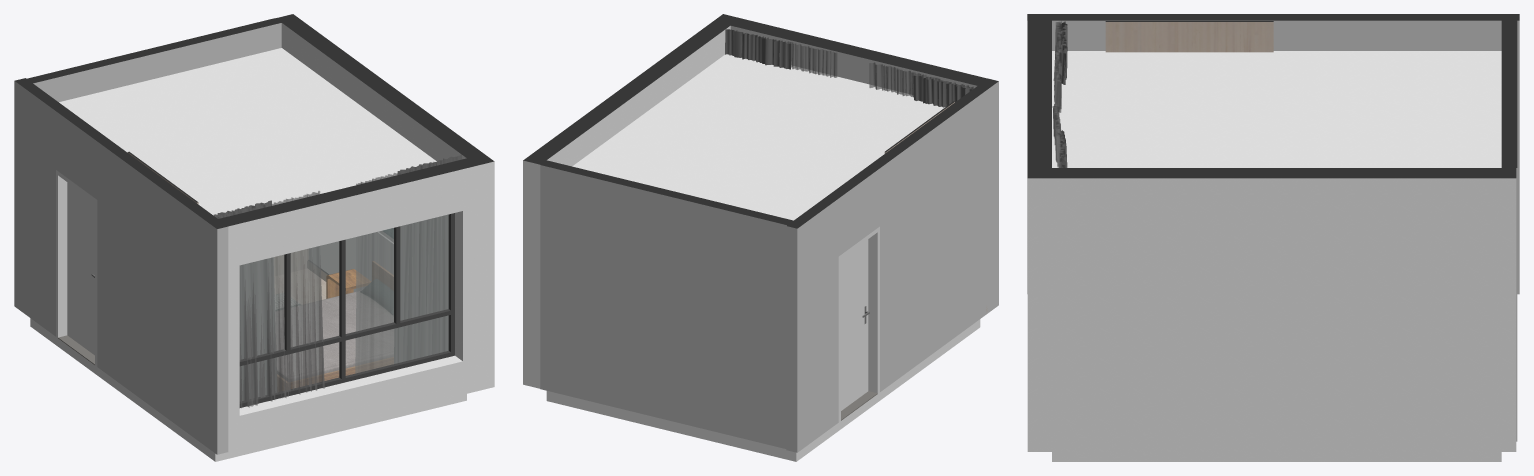
File: archilogic_2018-10-09_14-37-03_nCxAeA.obj
The picture shows the model from 3 angles, left to right: view 1: azimuth 30°, elevation 25°; view 2: azimuth 150°, elevation 25°; view 3: azimuth 270°, elevation 25°; orthographic projection. The views are drawn at different scales.
Visible parts, largest first — view 1: mesh_0, mesh_1, mesh_9, mesh_8, mesh_2, mesh_15, mesh_3, mesh_22, mesh_20, mesh_5, mesh_6, mesh_7; view 2: mesh_1, mesh_0, mesh_2, mesh_22, mesh_8, mesh_9, mesh_20; view 3: mesh_0, mesh_2, mesh_1, mesh_10, mesh_9, mesh_8.
Boxes of the visible parts, x1,y1,x2,y2 form: mesh_0: (30, 23, 494, 461); mesh_1: (14, 23, 281, 454); mesh_9: (214, 157, 457, 407); mesh_8: (213, 154, 461, 401); mesh_2: (14, 14, 494, 274); mesh_15: (275, 261, 393, 391); mesh_3: (239, 213, 454, 407); mesh_22: (67, 182, 94, 355); mesh_20: (56, 170, 97, 366); mesh_5: (274, 269, 326, 304); mesh_6: (326, 269, 370, 298); mesh_7: (274, 249, 308, 276); mesh_1: (540, 26, 998, 452); mesh_0: (523, 26, 980, 461); mesh_2: (523, 14, 998, 228); mesh_22: (841, 239, 868, 410); mesh_8: (725, 29, 971, 107); mesh_9: (729, 30, 973, 97); mesh_20: (838, 226, 879, 422); mesh_0: (1027, 51, 1516, 461); mesh_2: (1027, 14, 1519, 178); mesh_1: (1027, 20, 1519, 441); mesh_10: (1105, 22, 1273, 52); mesh_9: (1052, 21, 1064, 167); mesh_8: (1060, 21, 1067, 167).
Bounding box in the file's own units: 3.48 × 2.9 × 4.4.
Materials: 23 (12 with a texture image).
